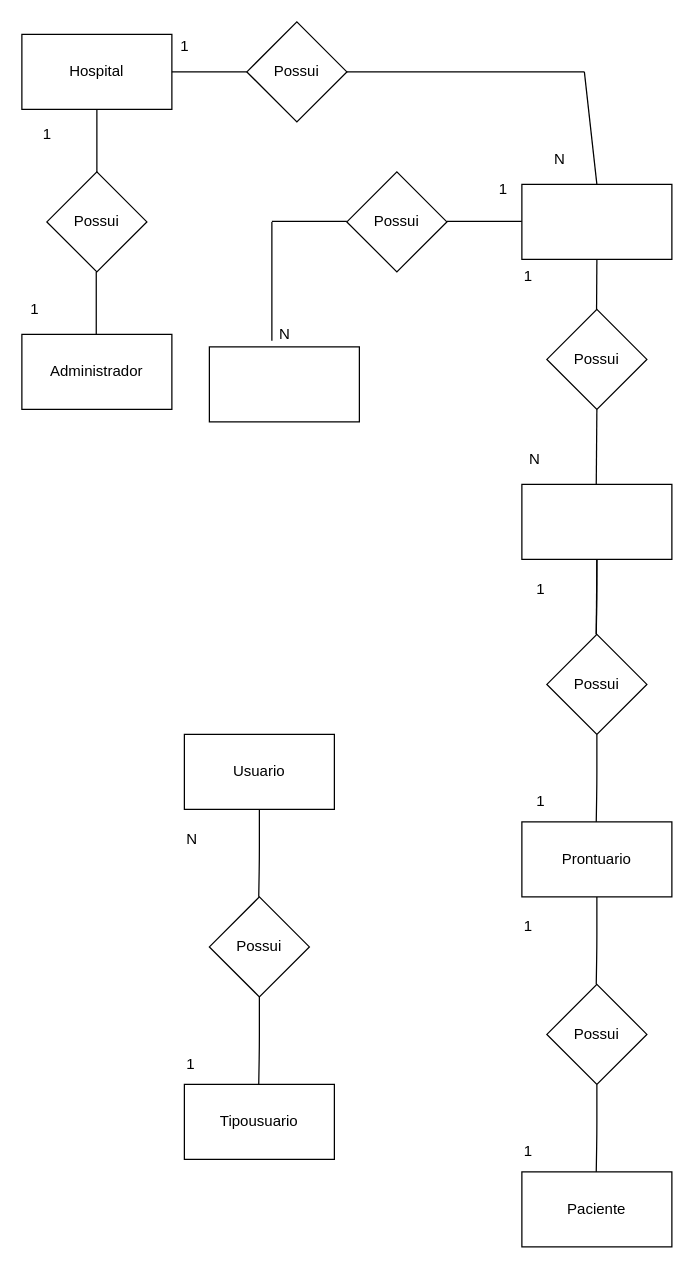
This 694x1269 diagram has some shape labels left out. Here are the shapes that lost their labels. From the top down, the box of each, then its label:
(521, 183, 672, 259): Medico
(208, 346, 359, 422): Especialidades
(521, 483, 672, 559): Consultas
